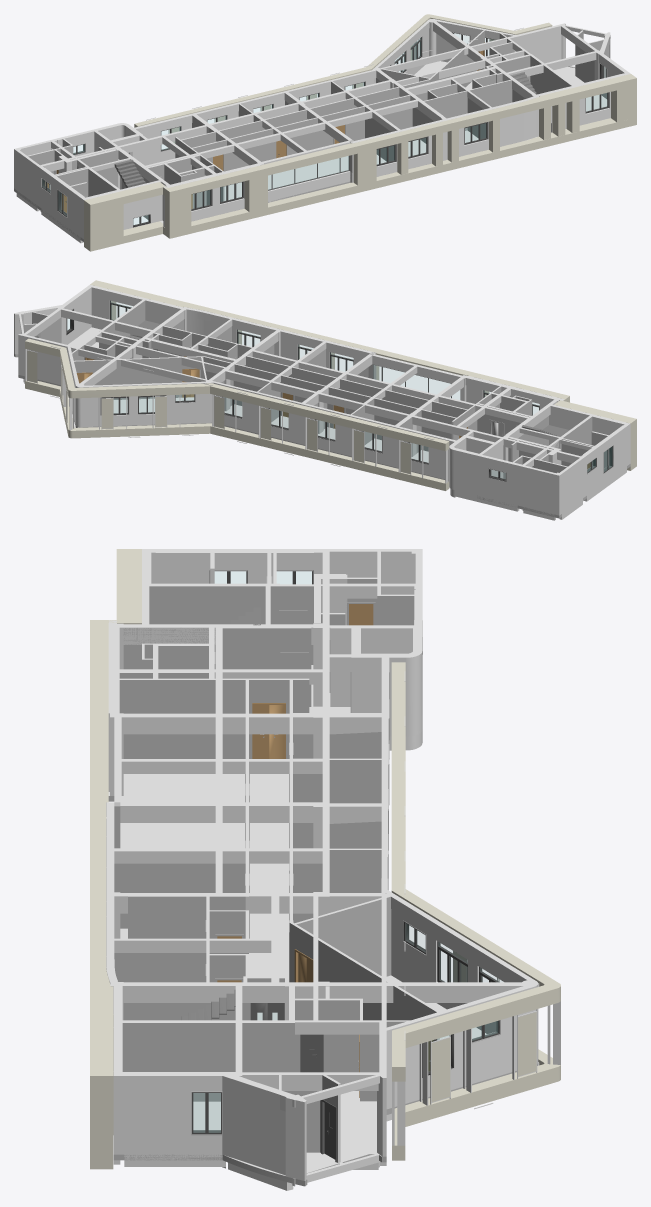
The picture shows the model from 3 angles, top to bottom: view 1: azimuth 30°, elevation 25°; view 2: azimuth 150°, elevation 25°; view 3: azimuth 270°, elevation 25°; orthographic projection. The views are drawn at different scales.
Parts seen in each view (by area): view 1: 矩形钢管_杆件_30x30x5__2277545__1; view 2: 矩形钢管_杆件_30x30x5__2277545__1; view 3: 矩形钢管_杆件_30x30x5__2277545__1.
Part boxes in pixels (x1,y1,x2,y2): 矩形钢管_杆件_30x30x5__2277545__1: (14, 14, 636, 251); 矩形钢管_杆件_30x30x5__2277545__1: (14, 280, 636, 520); 矩形钢管_杆件_30x30x5__2277545__1: (90, 549, 560, 1190).
Bounding box in the file's own units: 48220 × 4000 × 17352.
